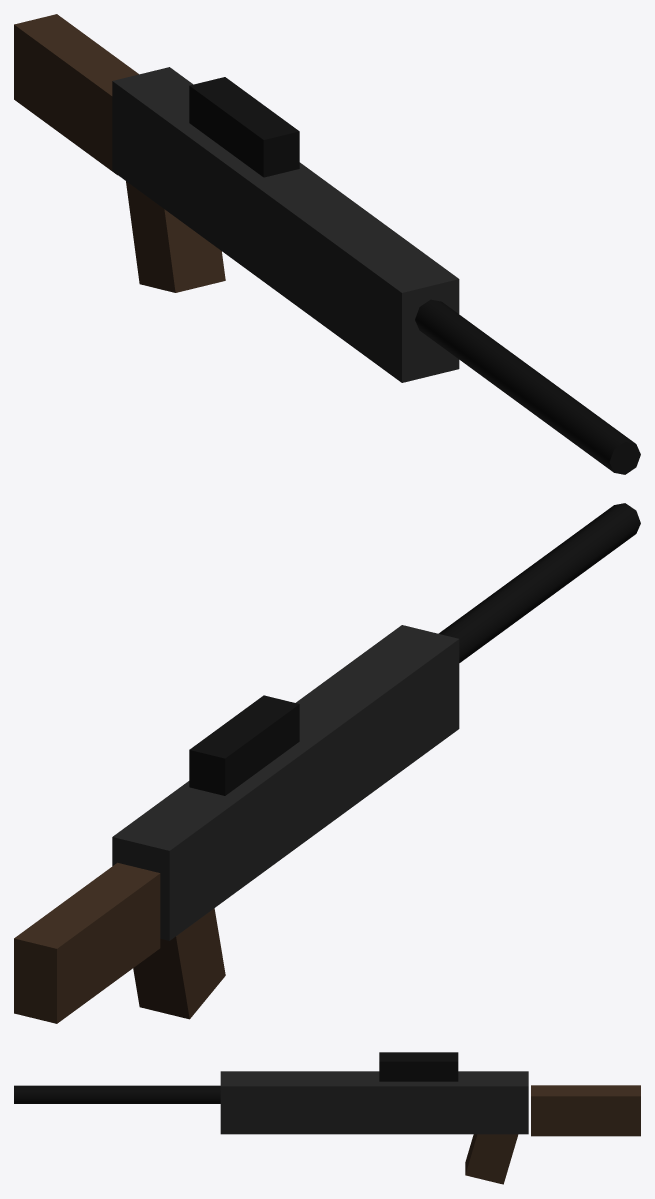
File: rifle.glb
3 renders of one model, top to bottom at view 1: azimuth 30°, elevation 25°; view 2: azimuth 150°, elevation 25°; view 3: azimuth 270°, elevation 25°, orthographic. The views are drawn at different scales.
Visible parts, largest first — view 1: rifle; view 2: rifle; view 3: rifle.
Boxes of the visible parts, x1,y1,x2,y2 form: rifle: (14,14,640,474); rifle: (14,503,640,1023); rifle: (14,1052,640,1184).
Bounding box in the file's own units: 0.08 × 0.3039 × 1.43.
